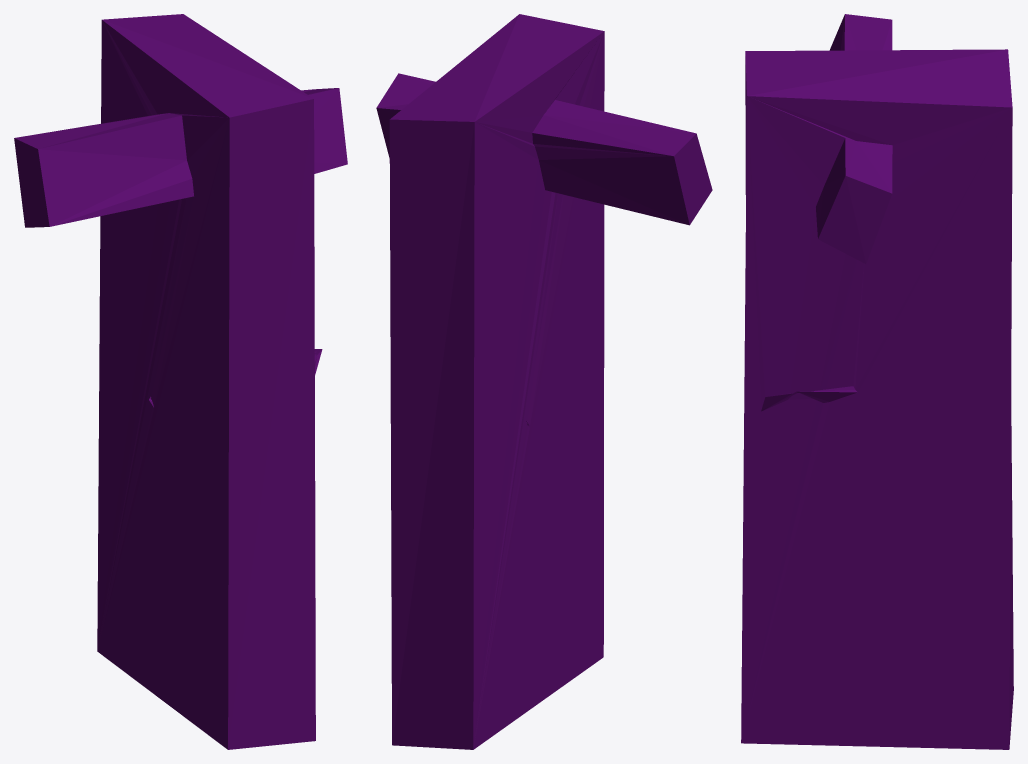
3 renders of one model, left to right at view 1: azimuth 30°, elevation 25°; view 2: azimuth 150°, elevation 25°; view 3: azimuth 270°, elevation 25°, orthographic. The views are drawn at different scales.
Parts seen in each view (by area): view 1: 014_Cube.067; view 2: 014_Cube.067; view 3: 014_Cube.067.
Boxes of the visible parts, x1,y1,x2,y2 form: 014_Cube.067: (14,14,347,749); 014_Cube.067: (376,14,712,749); 014_Cube.067: (741,14,1013,749).
Bounding box in the file's own units: 6.07 × 12.39 × 4.64.
